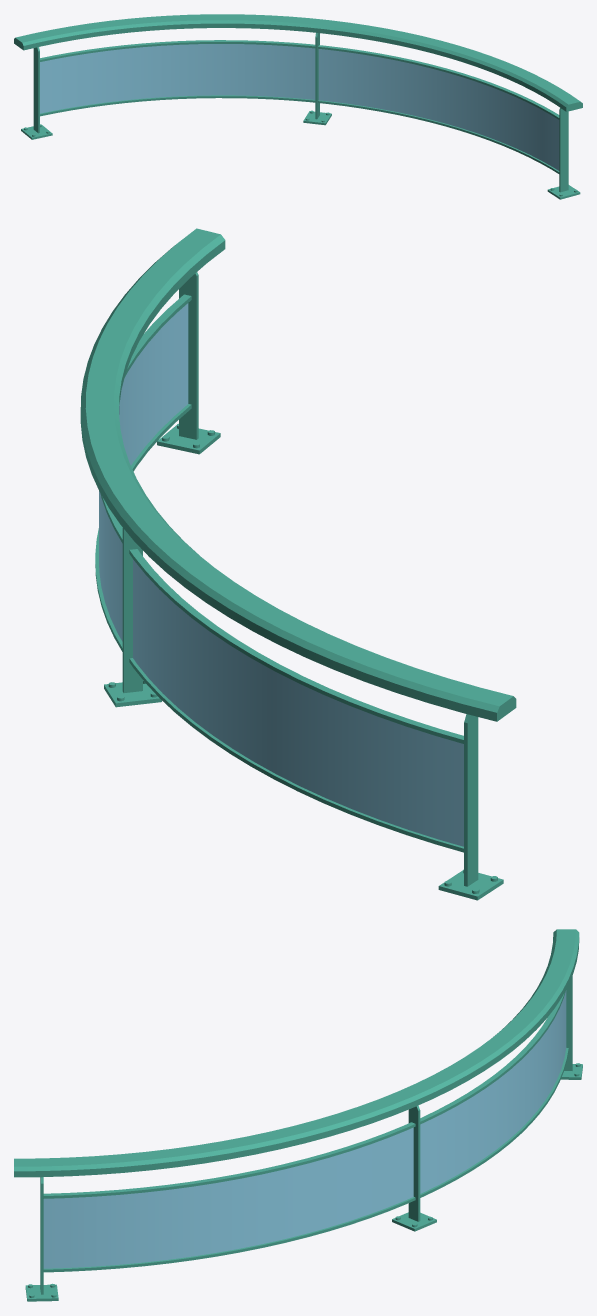
The model's file is Fence_03.FBX.
The picture shows the model from 3 angles, top to bottom: view 1: azimuth 30°, elevation 25°; view 2: azimuth 150°, elevation 25°; view 3: azimuth 270°, elevation 25°; orthographic projection. The views are drawn at different scales.
Parts seen in each view (by area): view 1: Fence_03; view 2: Fence_03; view 3: Fence_03.
Part boxes in pixels (x1,y1,x2,y2): Fence_03: (14, 14, 582, 199); Fence_03: (80, 228, 516, 900); Fence_03: (14, 929, 582, 1301).
Size of the model in its own units: 5.25 by 1.34 by 5.25.
